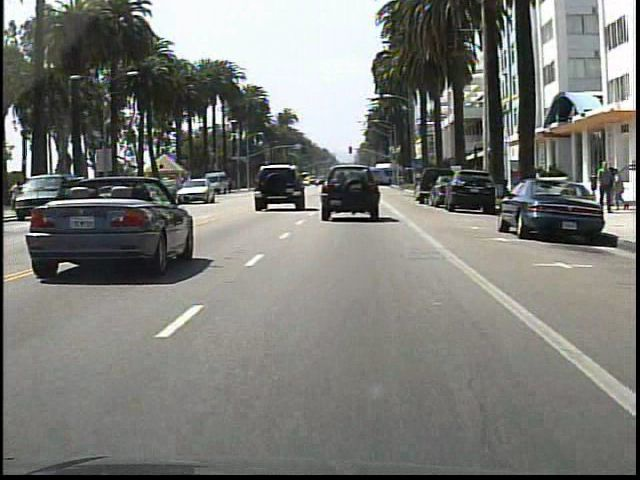person: (592, 158, 615, 216)
